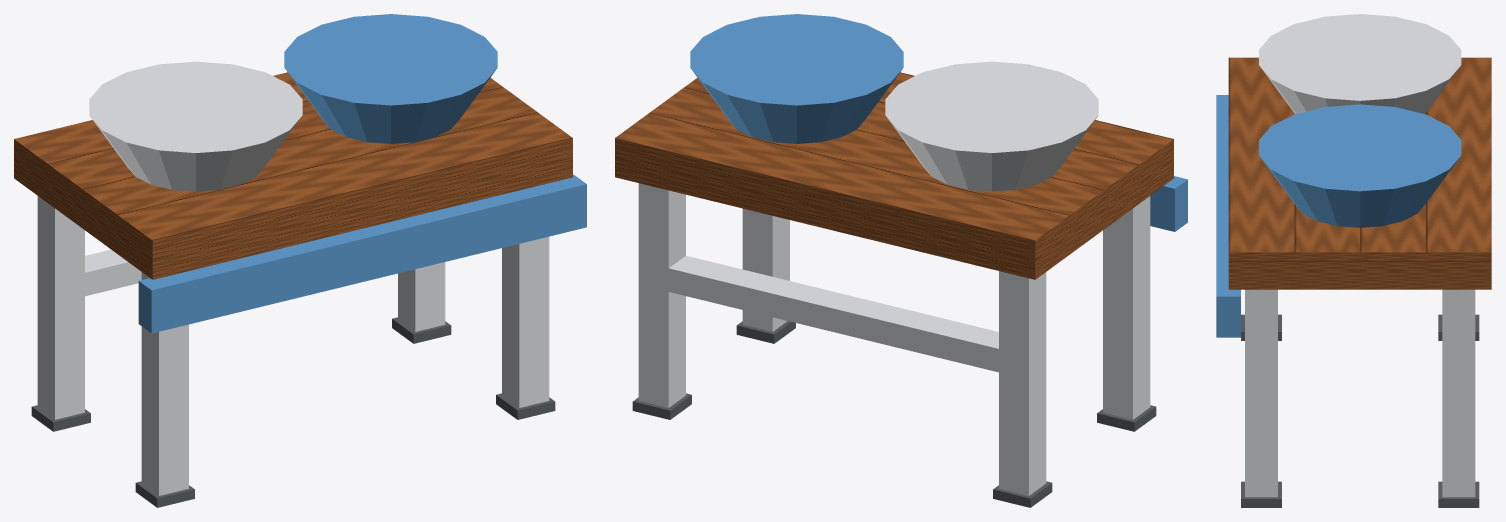
Rendered from boarding-kennels-and-cattery-boarding-kennels-and-catt-a37f3ca3__35543.glb.
The picture shows the model from 3 angles, left to right: view 1: azimuth 30°, elevation 25°; view 2: azimuth 150°, elevation 25°; view 3: azimuth 270°, elevation 25°; orthographic projection. The views are drawn at different scales.
Parts seen in each view (by area): view 1: boarding-kennels-and-cattery-raised-feeding-stand; view 2: boarding-kennels-and-cattery-raised-feeding-stand; view 3: boarding-kennels-and-cattery-raised-feeding-stand.
Boxes of the visible parts, bbox=[...] form: boarding-kennels-and-cattery-raised-feeding-stand: bbox=[14, 14, 586, 507]; boarding-kennels-and-cattery-raised-feeding-stand: bbox=[615, 14, 1187, 507]; boarding-kennels-and-cattery-raised-feeding-stand: bbox=[1216, 14, 1491, 507].
Bounding box in the file's own units: 0.58 × 0.42 × 0.335.
Materials: 4 (1 with a texture image).
